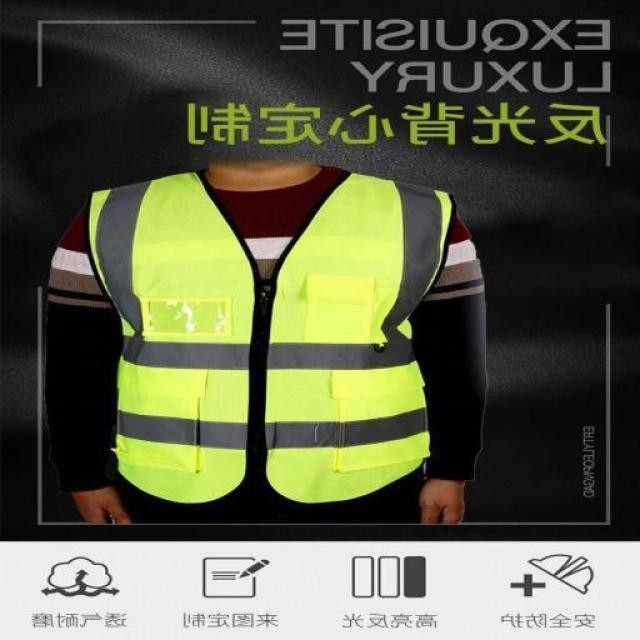vest: (88, 180, 448, 500)
